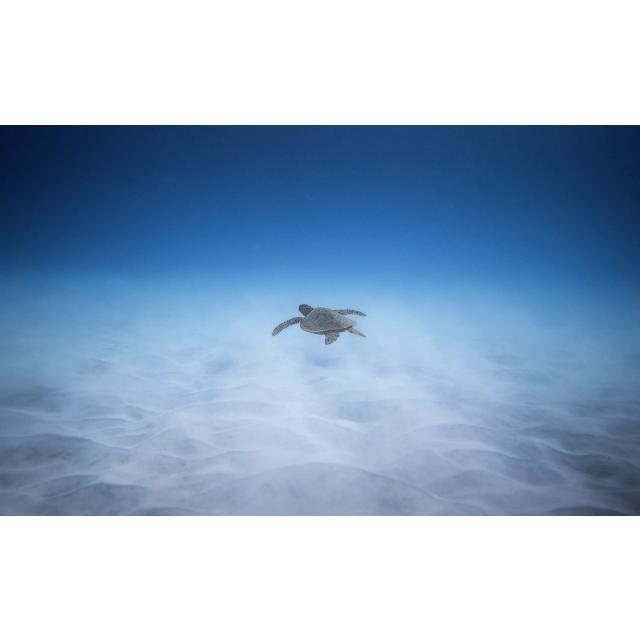turtle: (271, 302, 370, 346)
